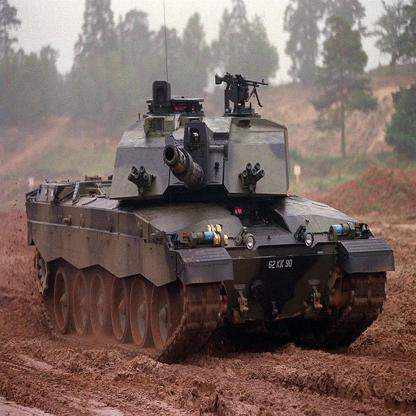Tank: (25, 72, 395, 368)
